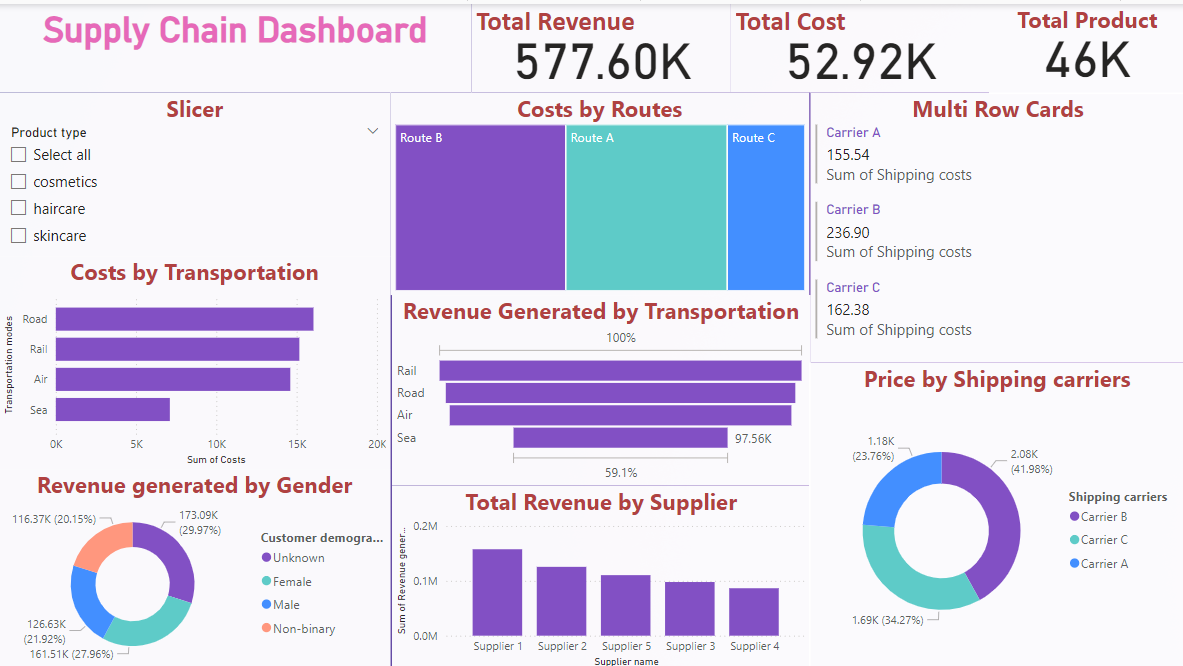

Layout of this report page (visuals, bound fields, positions):
{"tool":"powerbi","page":{"name":"Page 1","canvas":[1280,720],"ordinal":0},"visuals":[{"type":"card","title":"Total Revenue","fields":{"Values":["Sum(supply_chain_data.Revenue generated)"]},"box":[510.1,0,280.1,95.5],"z":0},{"type":"card","title":"Total Cost","fields":{"Values":["Sum(supply_chain_data.Costs)"]},"box":[790.2,0,278.5,95.5],"z":1000},{"type":"card","title":"Total Product","fields":{"Values":["Sum(supply_chain_data.Number of products sold)"]},"box":[1068.7,0,212.1,97.2],"z":2000},{"type":"clusteredBarChart","title":"Costs by Transportation ","fields":{"Y":["Sum(supply_chain_data.Costs)"],"Category":["supply_chain_data.Transportation modes"]},"box":[0,272,422.6,229.9],"z":3000},{"type":"treemap","title":"Costs by Routes","fields":{"Group":["supply_chain_data.Routes"],"Values":["Sum(supply_chain_data.Costs)"]},"box":[422.6,95.5,451.8,218.6],"z":4000},{"type":"clusteredColumnChart","title":"Total Revenue by Supplier","fields":{"Y":["Sum(supply_chain_data.Revenue generated)"],"Category":["supply_chain_data.Supplier name"]},"box":[424.2,519.8,451.8,200.8],"z":5000},{"type":"donutChart","title":" Revenue generated by Gender ","fields":{"Category":["supply_chain_data.Customer demographics"],"Y":["Sum(supply_chain_data.Revenue generated)"]},"box":[0,502,422.6,218.6],"z":6000},{"type":"funnel","title":"Revenue Generated by Transportation","fields":{"Y":["Sum(supply_chain_data.Revenue generated)"],"Category":["supply_chain_data.Transportation modes"]},"box":[424.2,314.1,451.8,205.6],"z":7000},{"type":"textbox","box":[0,0,510.1,95.5],"z":8000},{"type":"slicer","title":"Slicer","fields":{"Values":["supply_chain_data.Product type"]},"box":[0,95.5,422.6,176.5],"z":8001},{"type":"multiRowCard","title":"Multi Row Cards","fields":{"Values":["supply_chain_data.Shipping carriers","Sum(supply_chain_data.Shipping costs)"]},"box":[876,95.5,404.8,291.5],"z":8002},{"type":"donutChart","title":"Price by Shipping carriers","fields":{"Y":["Sum(supply_chain_data.Price)"],"Category":["supply_chain_data.Shipping carriers"]},"box":[874.4,387,406.4,333.6],"z":8003}]}

Visuals, with their boxes in screenshot pixels (x1, y1, x2, y2), scaled from the page's 1280x720 canvas onto the 1183x666 screenshot:
"Total Revenue" card: (471,0,730,88)
"Total Cost" card: (730,0,988,88)
"Total Product" card: (988,0,1182,90)
"Costs by Transportation " clusteredBarChart: (0,252,391,464)
"Costs by Routes" treemap: (391,88,808,291)
"Total Revenue by Supplier" clusteredColumnChart: (392,481,810,665)
" Revenue generated by Gender " donutChart: (0,464,391,665)
"Revenue Generated by Transportation" funnel: (392,291,810,481)
textbox: (0,0,471,88)
"Slicer" slicer: (0,88,391,252)
"Multi Row Cards" multiRowCard: (810,88,1182,358)
"Price by Shipping carriers" donutChart: (808,358,1182,665)
